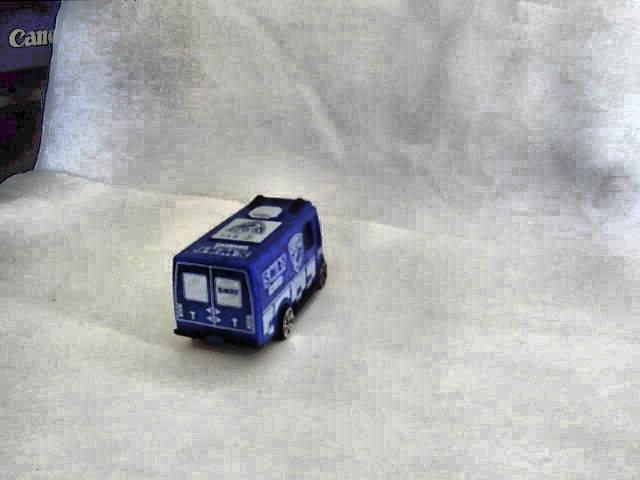police car: (168, 187, 332, 354)
